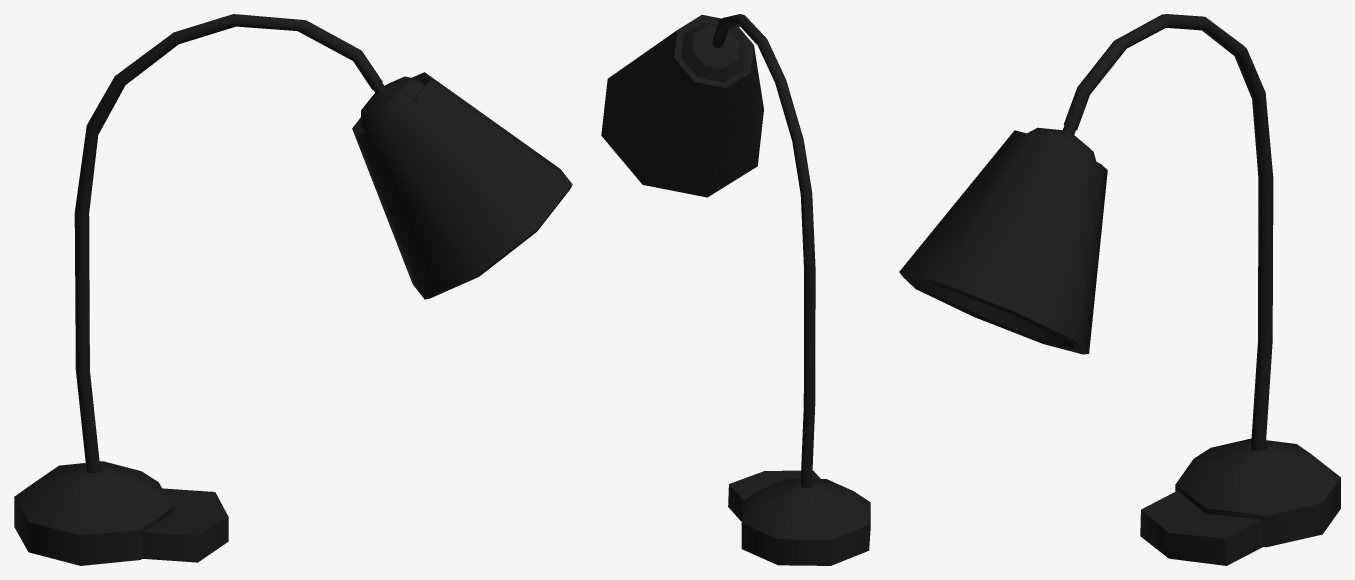
The model's file is Hea_Player_Lamp.fbx.
3 views of the same model, side by side, from view 1: azimuth 30°, elevation 25°; view 2: azimuth 150°, elevation 25°; view 3: azimuth 270°, elevation 25° (orthographic). The views are drawn at different scales.
Parts seen in each view (by area): view 1: Lamp.001; view 2: Lamp.001; view 3: Lamp.001.
Part boxes in pixels (x1,y1,x2,y2): Lamp.001: (14, 14, 572, 565); Lamp.001: (601, 14, 870, 565); Lamp.001: (899, 14, 1340, 565).
Bounding box in the file's own units: 33.07 × 39.84 × 29.22.
